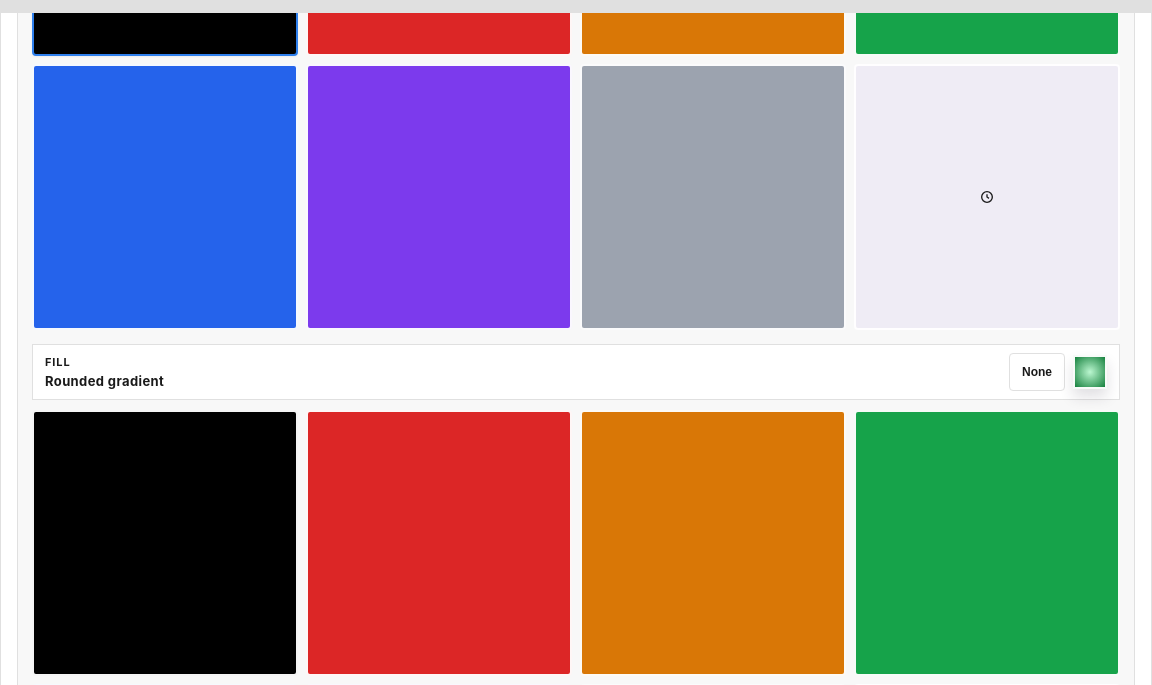
PropertiesPanel › shows the embedded gradient controls inside the fill picker
This screenshot has width=1152, height=685.
(page scrolled)
Click the button titled "Edit fill color" at [1090, 372], box [1073,355,1107,389]
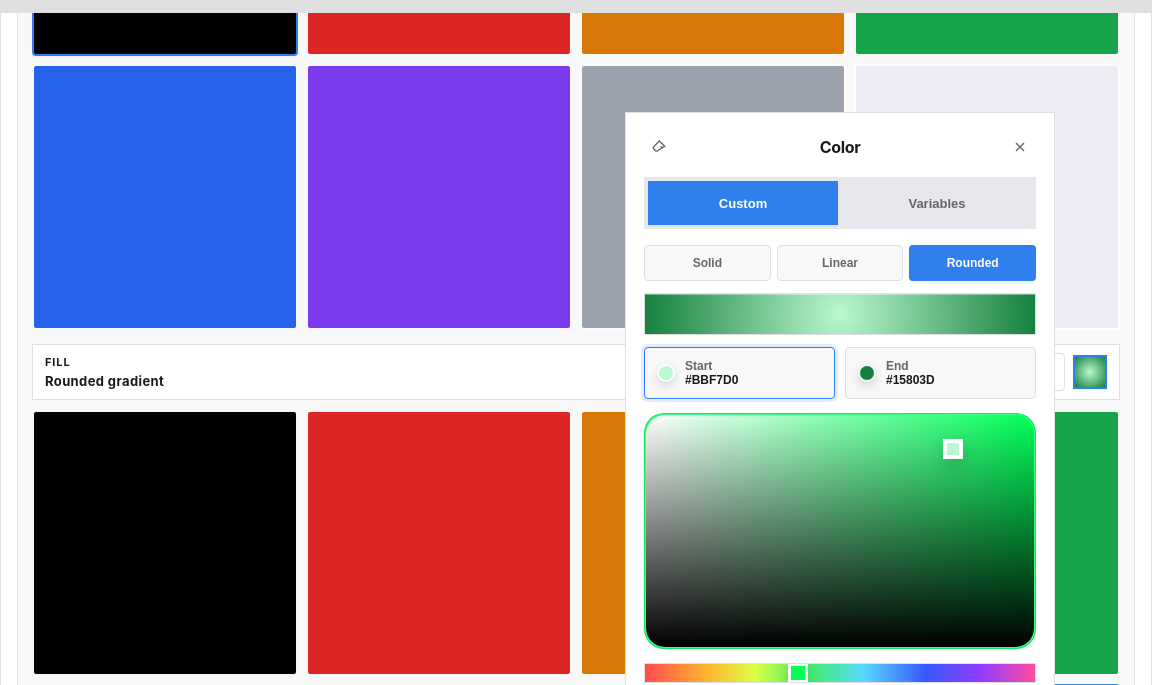
Check: the button "Rounded" is shown, box [909,245,1036,281]
Check: the element named "Gradient preview" is shown, box [644,293,1036,335]
Check: the button titled "Edit gradient start color" is shown, box [644,347,835,399]
